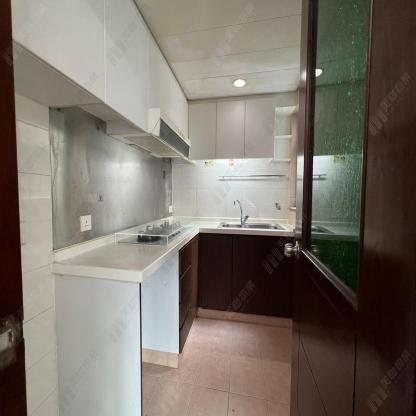Cupboard: (12, 1, 188, 139), (192, 93, 298, 164)
Exhaust Hood: (106, 107, 192, 159)
Faucet: (232, 197, 250, 224)
Sink: (213, 221, 288, 231)
Stove: (118, 219, 194, 244)
